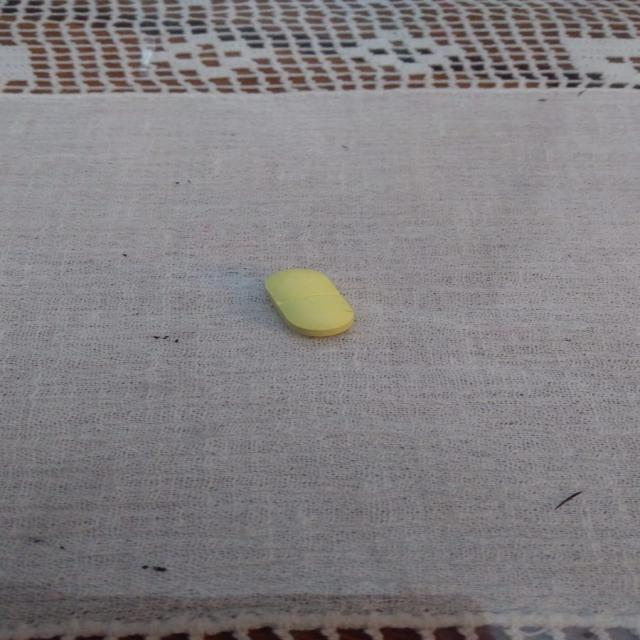pills: (240, 260, 367, 344)
